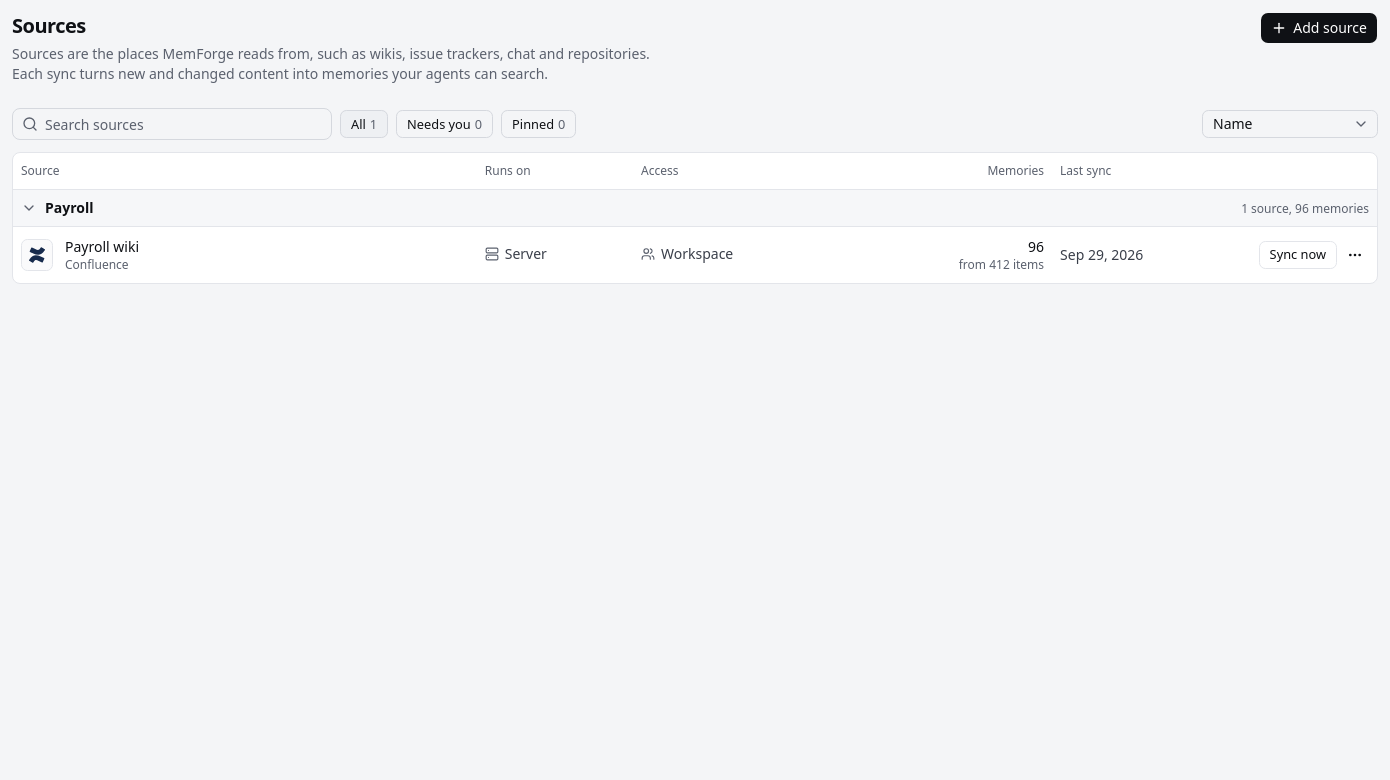
Test case: hidden from a viewer who cannot manage the source
The image size is (1390, 780).
Step 1. Click the button named "More actions for Payroll wiki" → (1355, 254), box [1341, 240, 1369, 268]
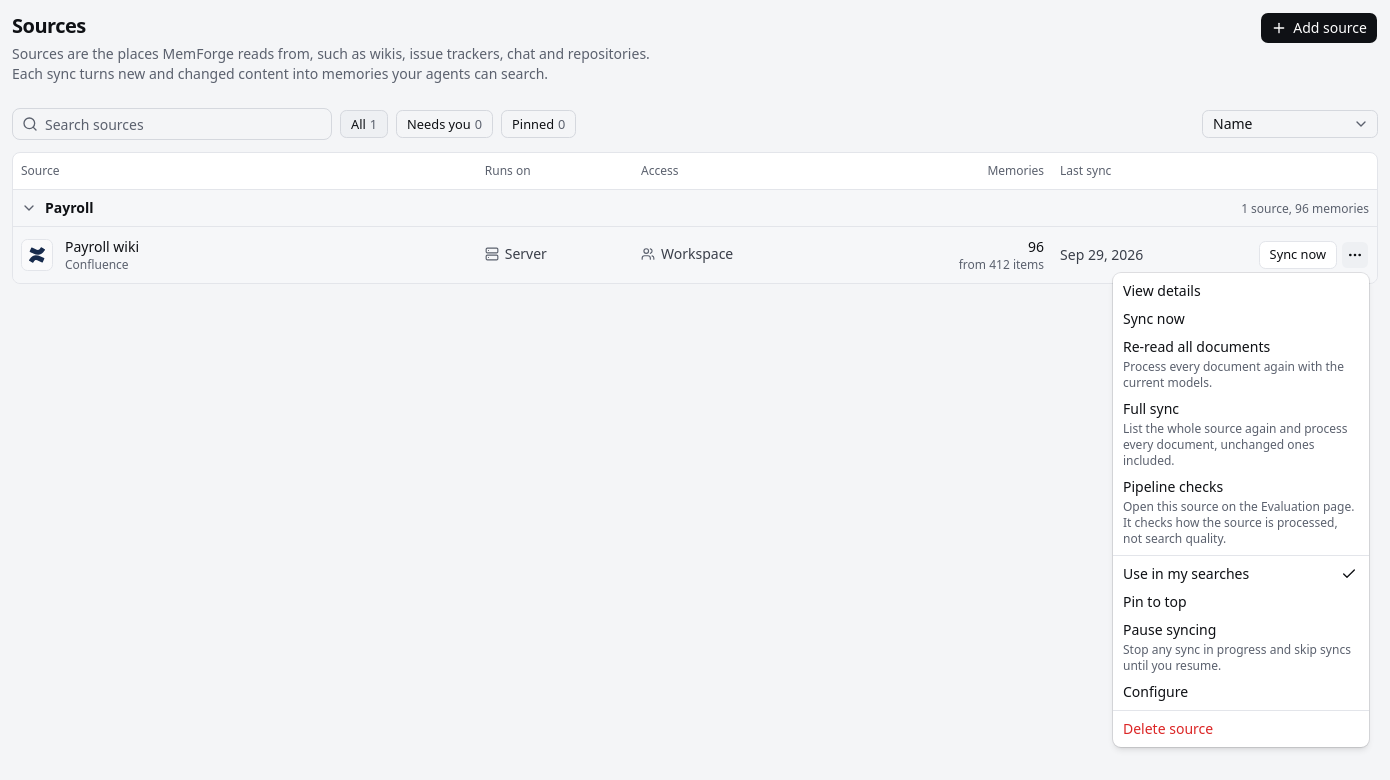
expect the menu item "View details" is shown: met, box [1123, 281, 1201, 300]
